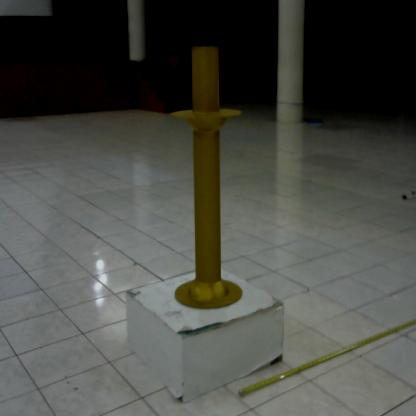pole: (166, 39, 249, 318)
